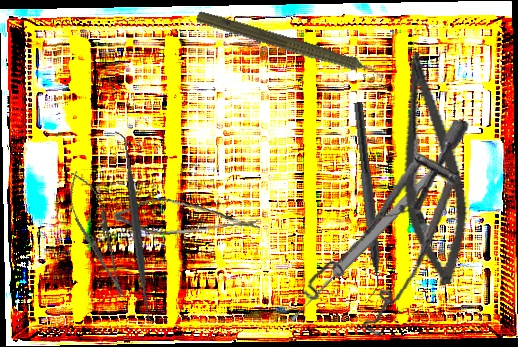Chopper: (339, 101, 388, 303)
Handpiece: (192, 6, 396, 90)
Micro Scissor: (376, 47, 482, 290), (112, 185, 262, 248)
Needle Holder: (58, 166, 137, 304)
Spatula Surgical: (113, 127, 159, 327)
Speculum: (298, 107, 470, 343)
Surgical Spoon: (287, 165, 441, 323)
